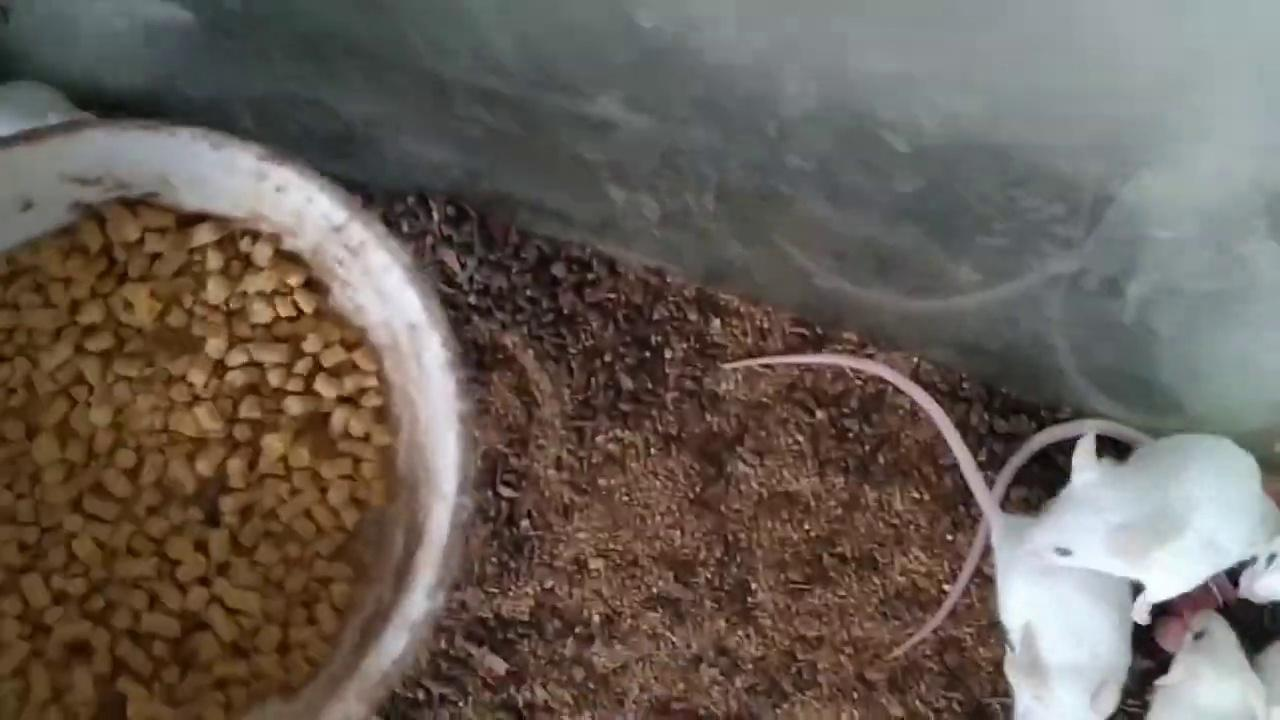rat: (723, 353, 1134, 720), (883, 419, 1280, 660), (1146, 610, 1268, 720)
